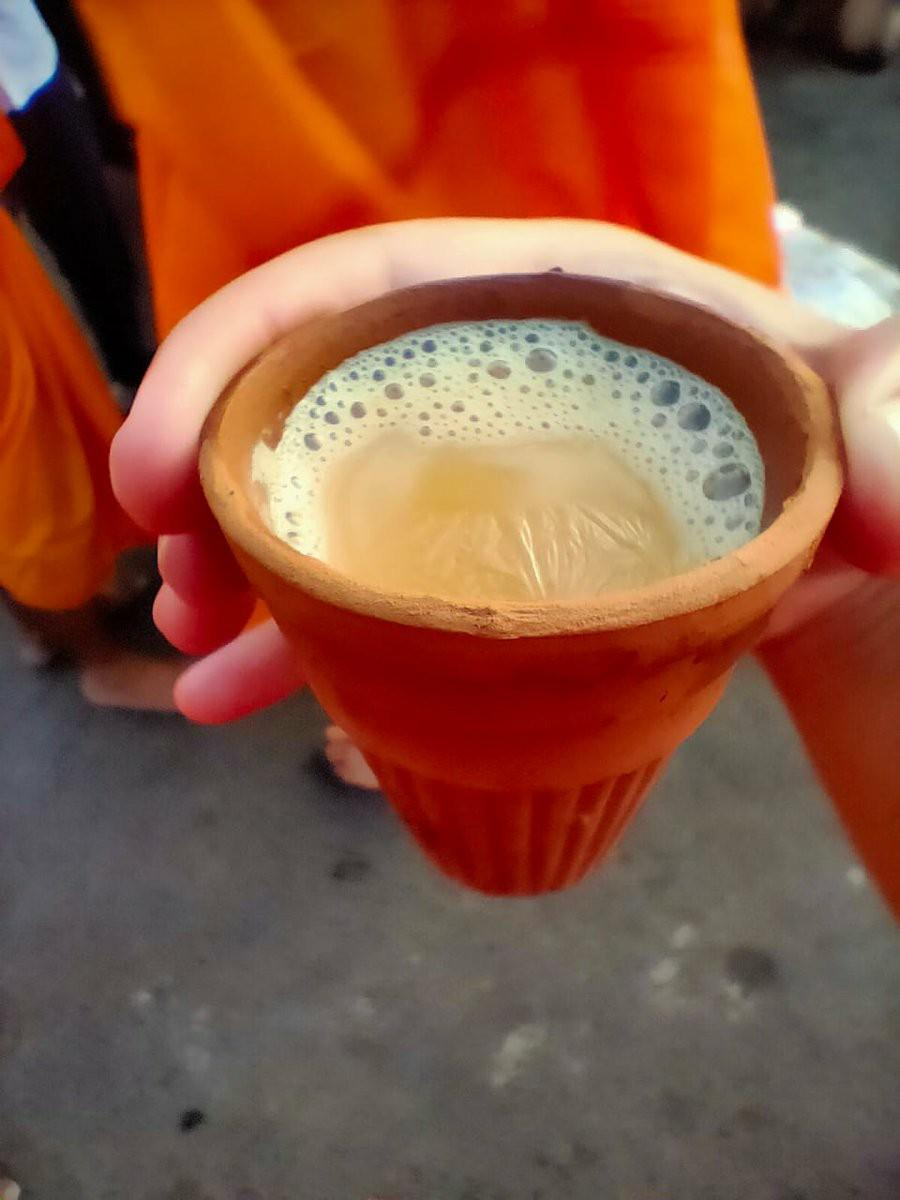Chai: (271, 315, 758, 606)
